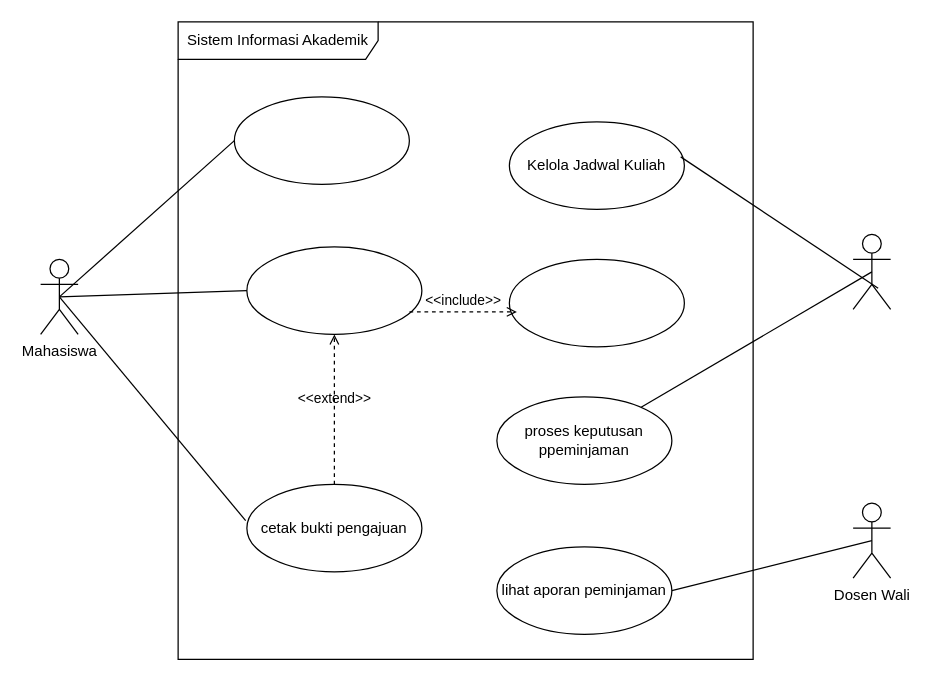
Image size: 949x681. Some labels were removed from this diagram. The centre of each missing label's shape, as x and y in pixels:
"Admin Akademik" belongs at (x=871, y=271).
"ajukan peminjaman" belongs at (x=334, y=290).
"Melihat Jadwal Kuliah" belongs at (x=321, y=140).
"perikas ketersediaan" belongs at (x=596, y=302).
